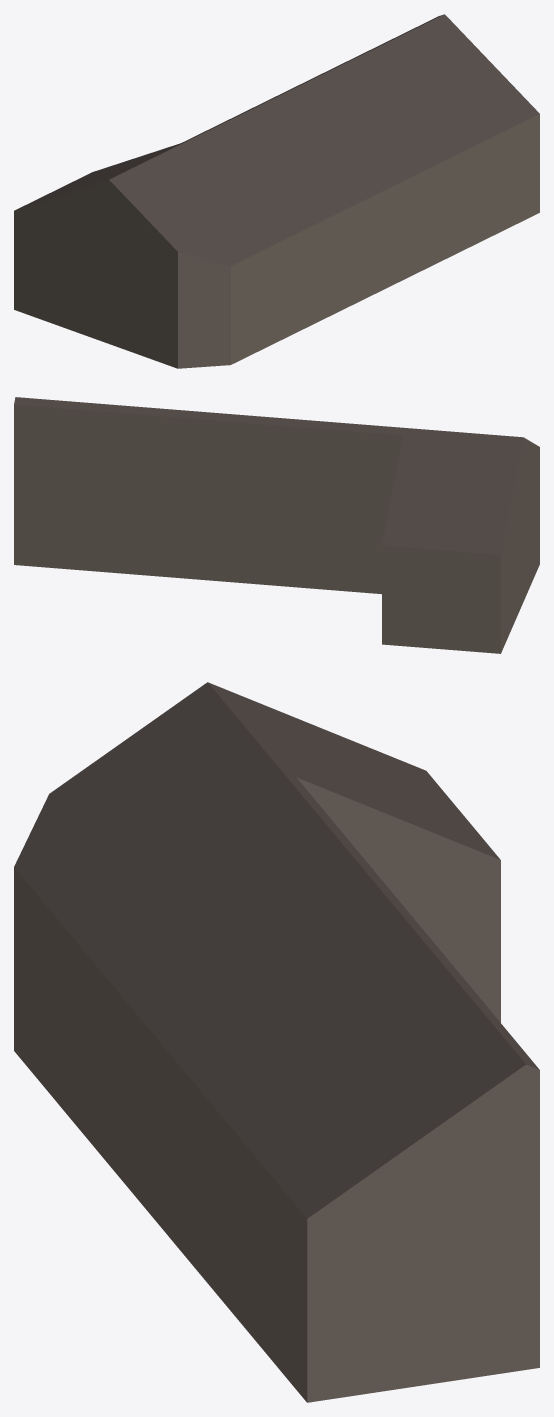
3 views of the same model, one above another, from view 1: azimuth 30°, elevation 25°; view 2: azimuth 150°, elevation 25°; view 3: azimuth 270°, elevation 25° (orthographic). The views are drawn at different scales.
Visible parts, largest first — view 1: HP-w435934418; view 2: HP-w435934418; view 3: HP-w435934418.
Boxes of the visible parts, left/top/right/bottom form: HP-w435934418: left=14, top=14, right=539, bottom=368; HP-w435934418: left=14, top=397, right=539, bottom=653; HP-w435934418: left=14, top=682, right=539, bottom=1402.
Size of the model in its own units: 31.36 by 9.97 by 15.56.
